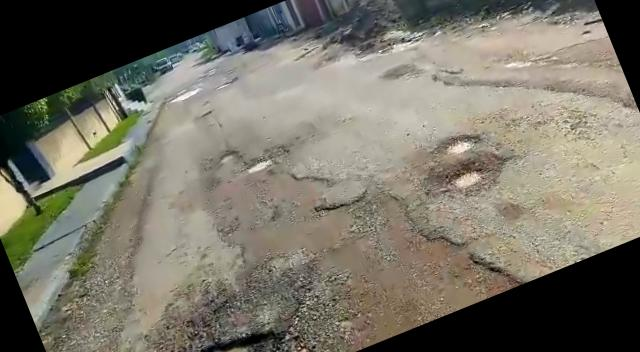pothole: (153, 321, 290, 352), (440, 129, 480, 160), (450, 166, 485, 194), (245, 154, 274, 175), (213, 147, 242, 166)
